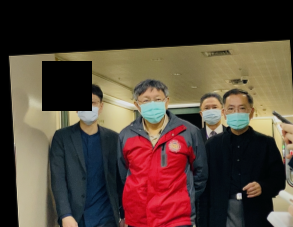with_mask: (137, 92, 167, 124), (222, 102, 252, 130), (75, 95, 100, 126), (200, 101, 223, 125)
